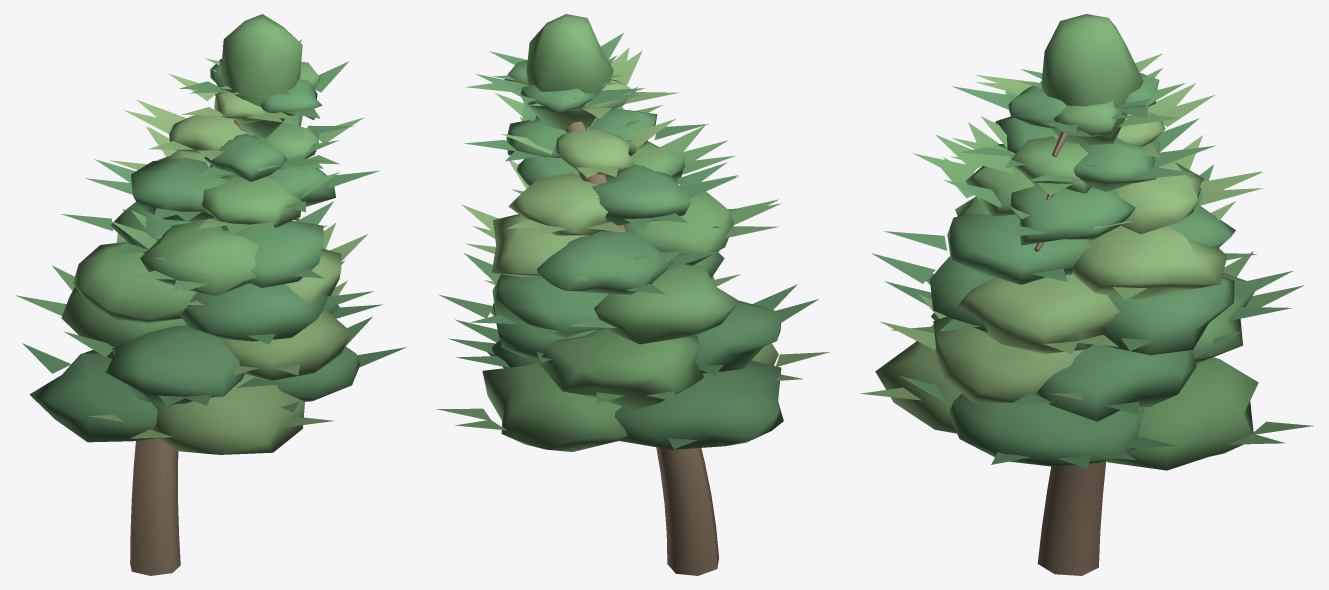
Rendered from kiefer_3.glb.
The picture shows the model from 3 angles, left to right: view 1: azimuth 30°, elevation 25°; view 2: azimuth 150°, elevation 25°; view 3: azimuth 270°, elevation 25°; orthographic projection. The views are drawn at different scales.
Parts seen in each view (by area): view 1: G_kiefer_3; view 2: G_kiefer_3; view 3: G_kiefer_3.
Part boxes in pixels (x1=…): G_kiefer_3: x1=15, y1=14, x2=406, y2=575; G_kiefer_3: x1=436, y1=14, x2=829, y2=575; G_kiefer_3: x1=860, y1=14, x2=1312, y2=575.
Size of the model in its own units: 4.95 by 7.54 by 5.07.
